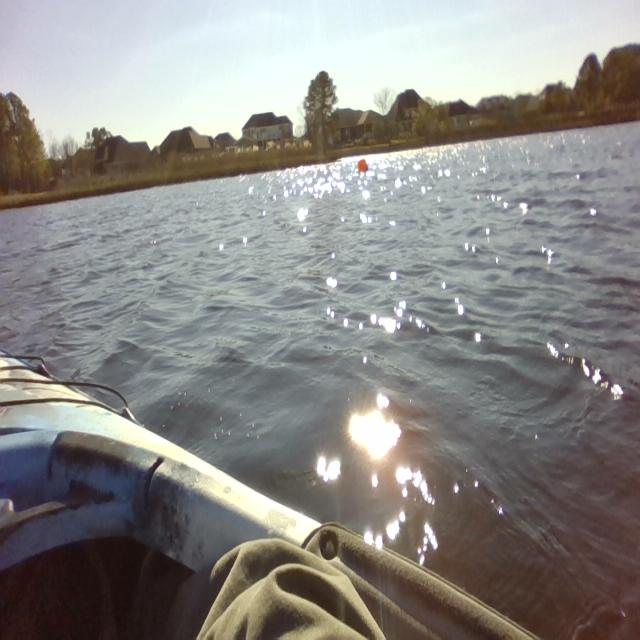Buoy: (351, 156, 376, 184)
